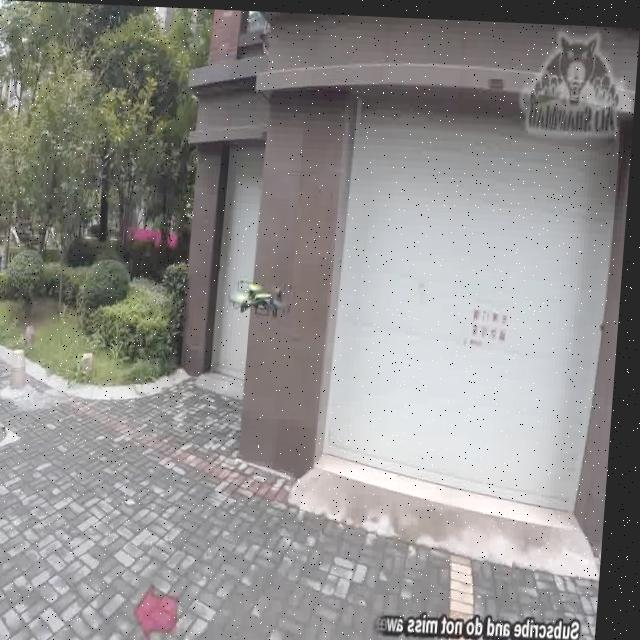drone: (230, 259, 303, 329)
